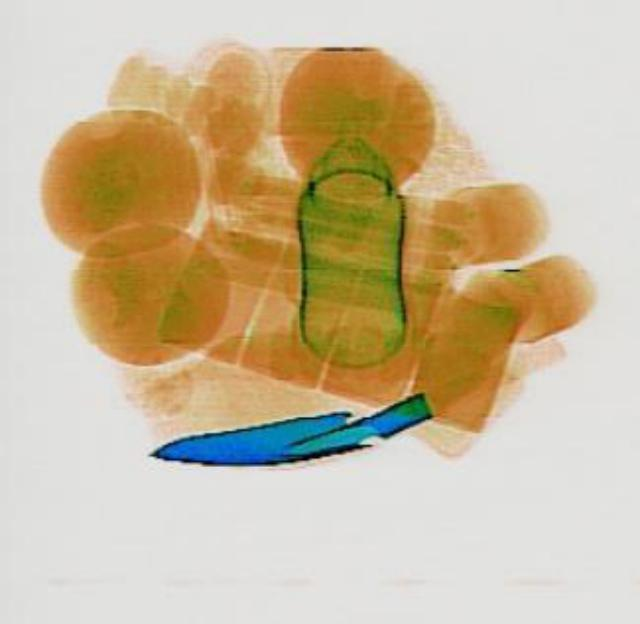Knife: (143, 403, 369, 476), (280, 382, 436, 473)
